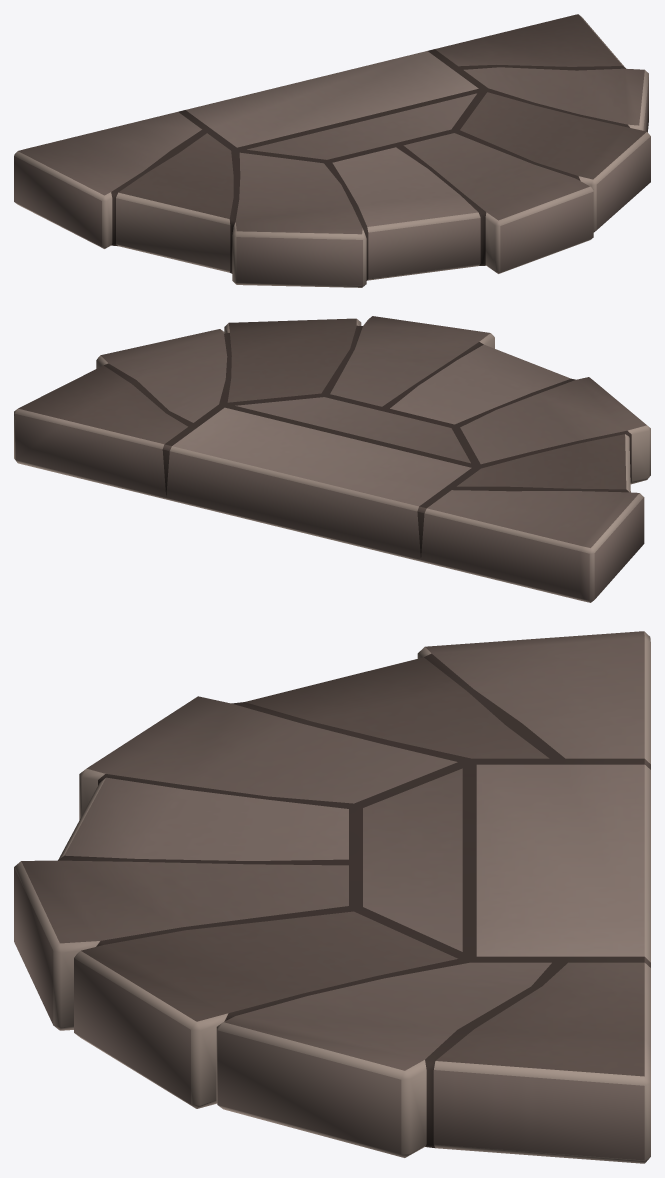
Rendered from elf_wooden_plank.fbx.
3 renders of one model, top to bottom at view 1: azimuth 30°, elevation 25°; view 2: azimuth 150°, elevation 25°; view 3: azimuth 270°, elevation 25°, orthographic. The views are drawn at different scales.
Parts seen in each view (by area): view 1: elf_wooden_plank; view 2: elf_wooden_plank; view 3: elf_wooden_plank.
Boxes of the visible parts, bbox=[...] form: elf_wooden_plank: bbox=[14, 14, 650, 287]; elf_wooden_plank: bbox=[14, 316, 650, 602]; elf_wooden_plank: bbox=[14, 631, 650, 1163].
Bounding box in the file's own units: 367 × 33.07 × 219.
